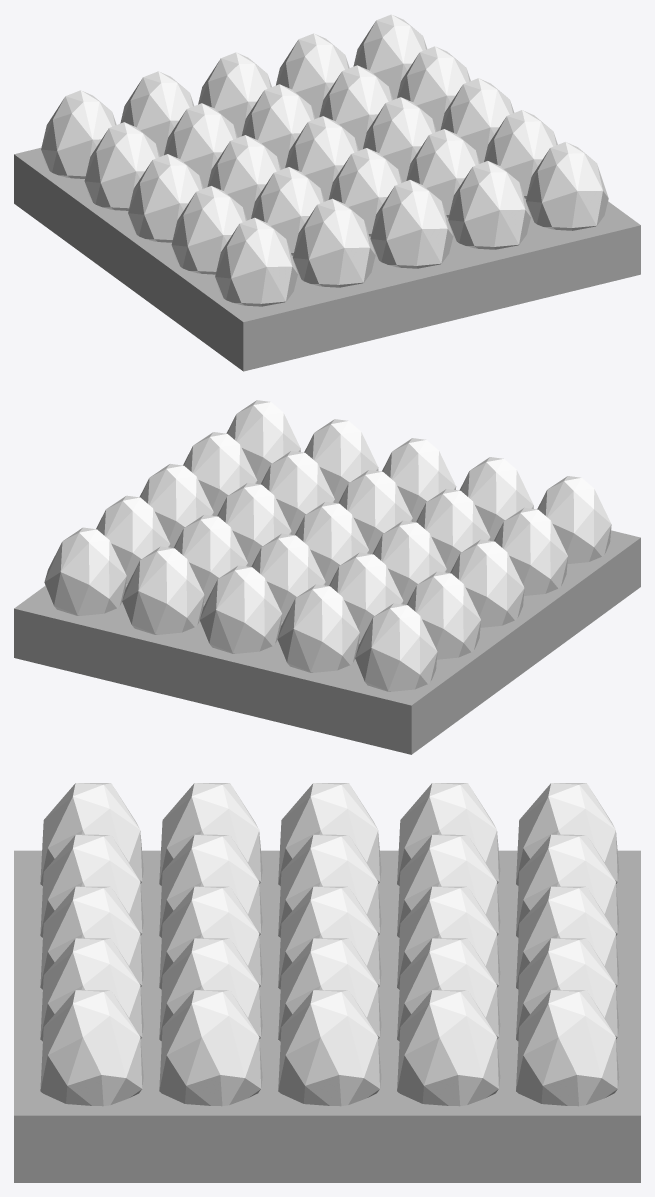
The model's file is egg tray1.fbx.
The picture shows the model from 3 angles, top to bottom: view 1: azimuth 30°, elevation 25°; view 2: azimuth 150°, elevation 25°; view 3: azimuth 270°, elevation 25°; orthographic projection. The views are drawn at different scales.
Visible parts, largest first — view 1: 239_Uncracked Egg.000, Cube; view 2: 239_Uncracked Egg.000, Cube; view 3: 239_Uncracked Egg.000, Cube.
Boxes of the visible parts, x1,y1,x2,y2 form: 239_Uncracked Egg.000: (41,14,608,306); Cube: (14,147,640,371); 239_Uncracked Egg.000: (44,400,611,691); Cube: (14,530,640,754); 239_Uncracked Egg.000: (40,783,619,1106); Cube: (14,850,640,1182).
Size of the model in its own units: 506 by 145 by 506.
